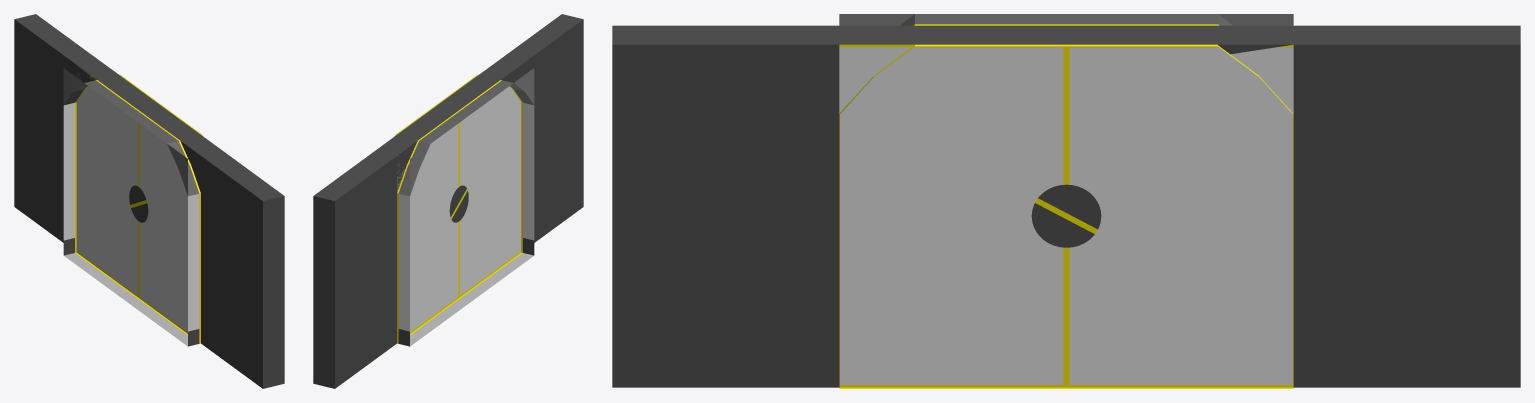
The model's file is ALDoor.fbx.
The picture shows the model from 3 angles, left to right: view 1: azimuth 30°, elevation 25°; view 2: azimuth 150°, elevation 25°; view 3: azimuth 270°, elevation 25°; orthographic projection. The views are drawn at different scales.
Visible parts, largest first — view 1: AL Ext Door, Al Door L, Al Door R, R Center, L Center; view 2: AL Ext Door, Al Door R, Al Door L, R Center, L Center; view 3: AL Ext Door, Al Door R, Al Door L, R Center, L Center.
Part boxes in pixels (x1,y1,x2,y2): AL Ext Door: (14,14,284,388); Al Door L: (76,66,138,297); Al Door R: (138,123,187,333); R Center: (129,185,146,206); L Center: (130,201,148,222); AL Ext Door: (313,14,583,388); Al Door R: (459,86,521,297); Al Door L: (397,123,459,333); R Center: (449,185,467,218); L Center: (451,189,468,222); AL Ext Door: (612,14,1520,388); Al Door R: (839,44,1066,387); Al Door L: (1066,44,1293,387); R Center: (1036,184,1101,231); L Center: (1031,200,1096,247).
Size of the model in its own units: 50 by 250 by 600.
